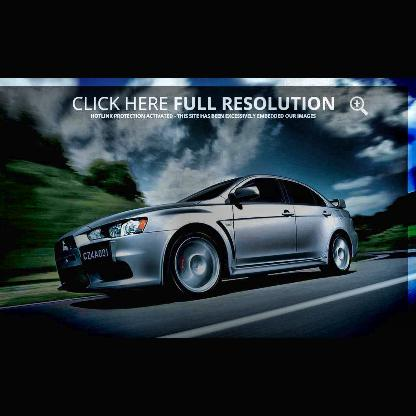Mitsubishi Lancer Sedan 2012: (56, 173, 367, 308)
